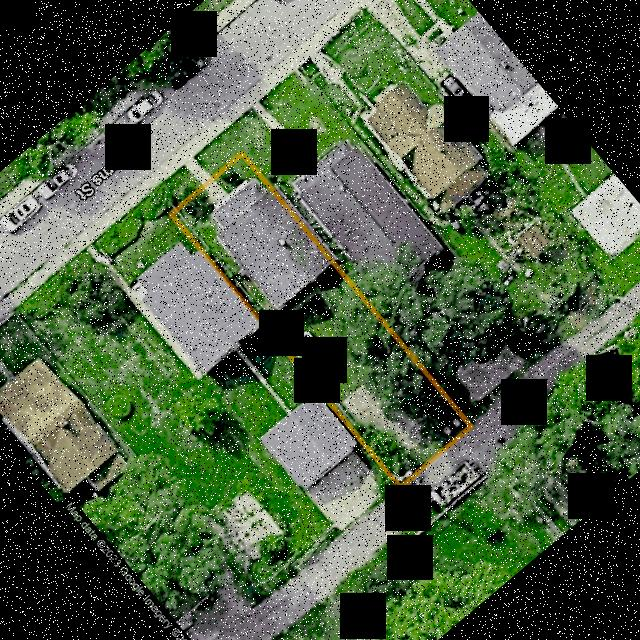Driveway: (205, 181, 227, 204)
Extra Driveway: (183, 157, 210, 185)
Extra Lawn: (149, 165, 199, 212), (192, 130, 240, 176)
House: (211, 178, 329, 309)
Other: (342, 385, 423, 462), (296, 331, 322, 358)
